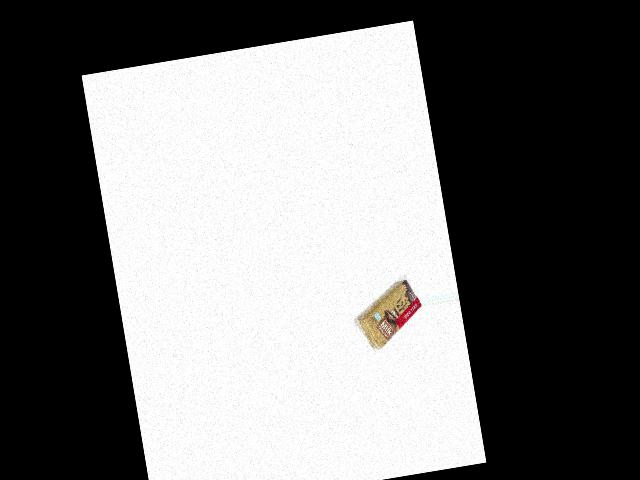chocolate: (350, 276, 427, 360)
